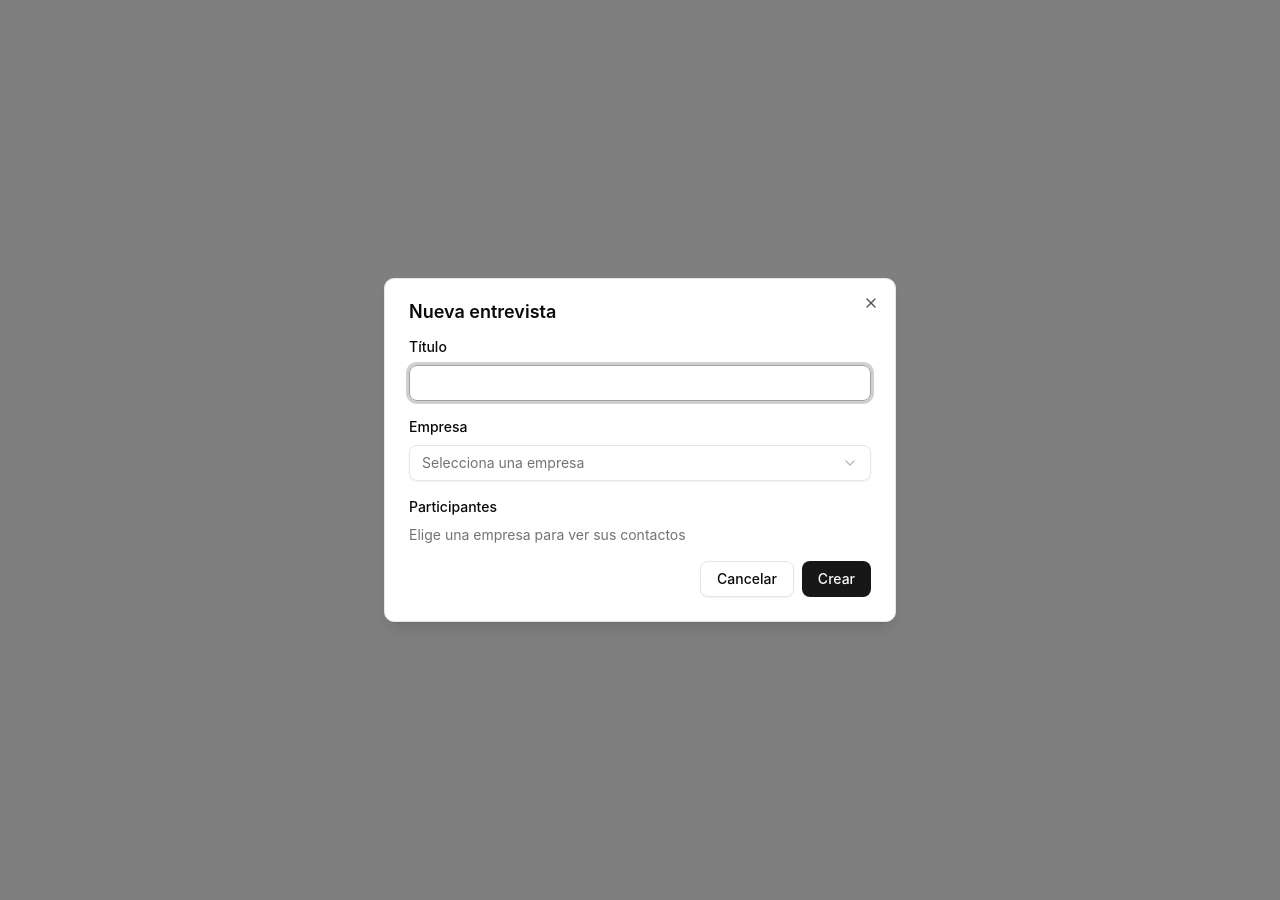
it: GroupInterviewFormDialog › shows the muted "Esta empresa no tiene contactos" message for a chosen company without contacts
The width and height of the screenshot is (1280, 900).
Click the dropdown with test id "interview-company-select" at (503, 462), box [409,445,871,481]
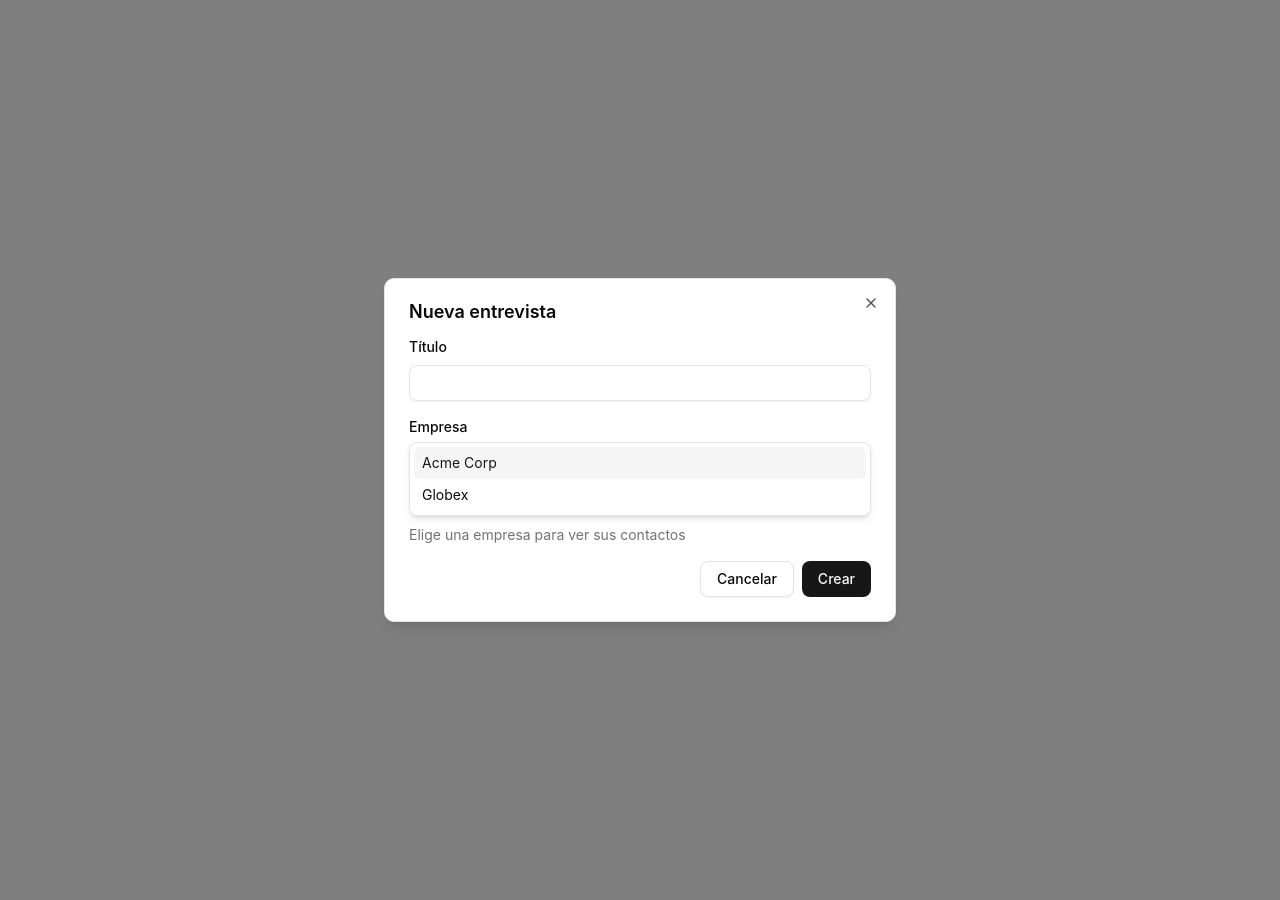
Click the option "Acme Corp" at (459, 462), box [414,447,866,479]
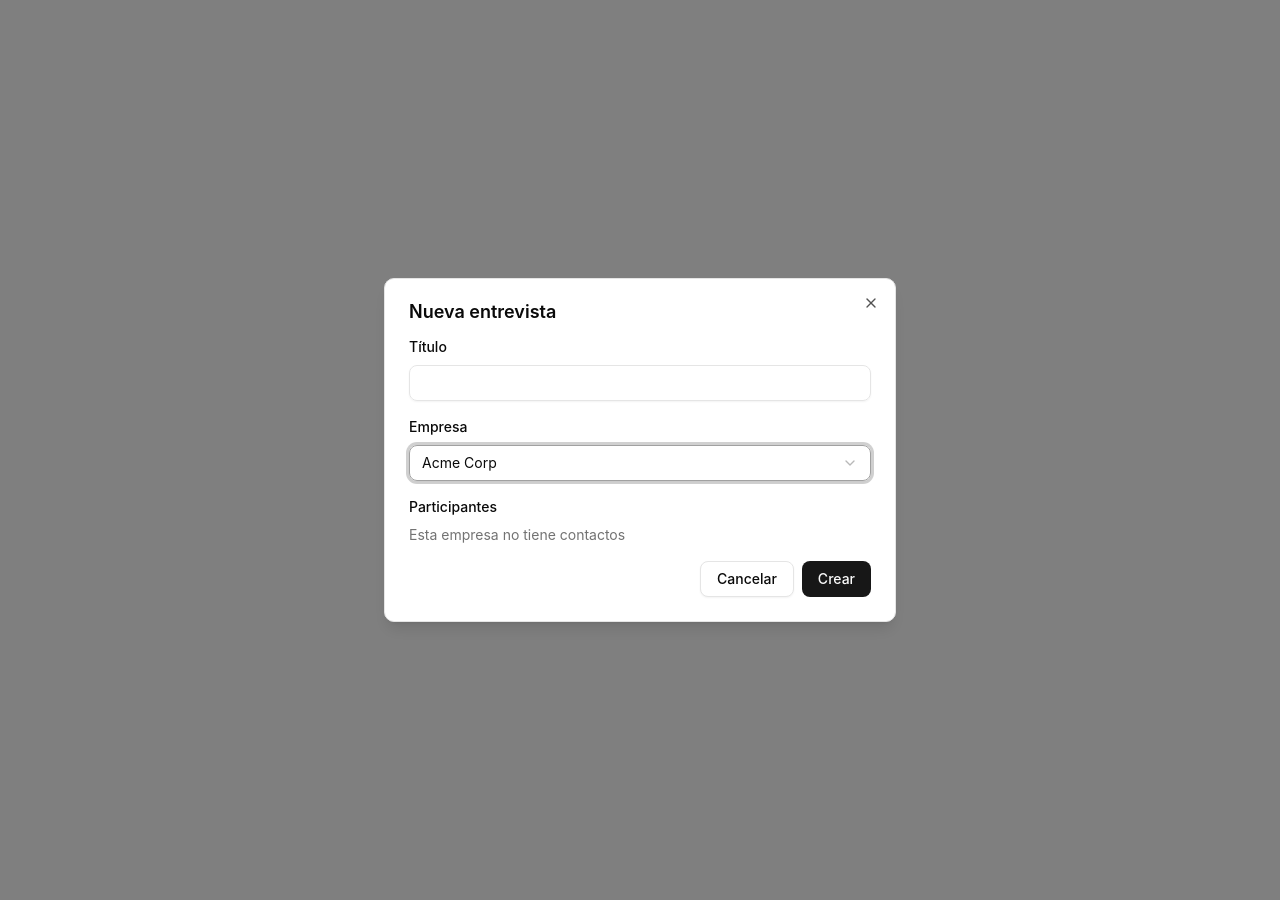
Check: the text "Esta empresa no tiene contactos" is shown, box [409,526,625,543]
Check: the text "Elige una empresa para ver sus contactos" is gone
